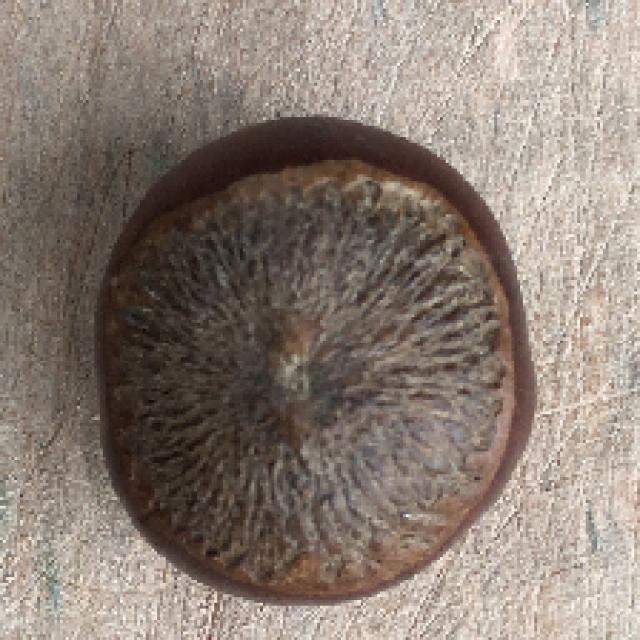damagedHazelnut: (84, 110, 542, 606)
